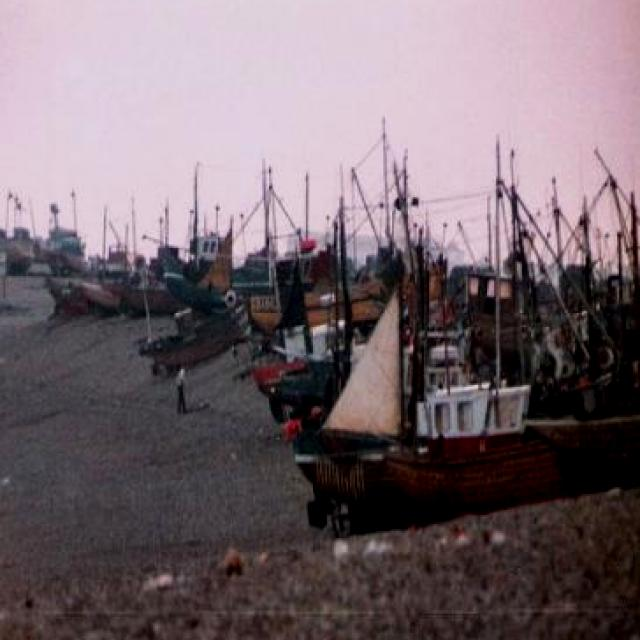ship: (289, 278, 530, 540), (248, 176, 357, 438), (133, 160, 245, 376), (387, 426, 557, 526), (40, 206, 132, 314), (0, 172, 28, 272)
